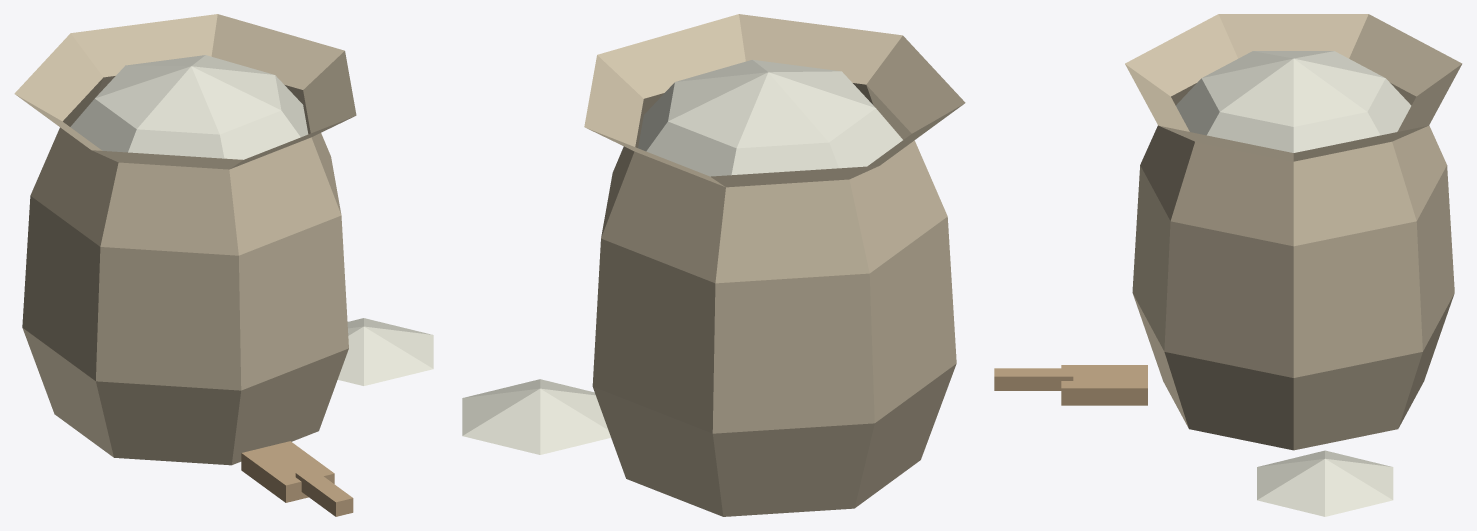
File: prop-fullers-earth-sack.fbx
3 renders of one model, left to right at view 1: azimuth 30°, elevation 25°; view 2: azimuth 150°, elevation 25°; view 3: azimuth 270°, elevation 25°, orthographic. The views are drawn at different scales.
Visible parts, largest first — view 1: prop-fullers-earth-sack; view 2: prop-fullers-earth-sack; view 3: prop-fullers-earth-sack.
Part boxes in pixels (bbox=[...]): prop-fullers-earth-sack: bbox=[14, 14, 433, 516]; prop-fullers-earth-sack: bbox=[462, 14, 965, 516]; prop-fullers-earth-sack: bbox=[994, 14, 1462, 516].
Bounding box in the file's own units: 56.82 × 47 × 59.45.
